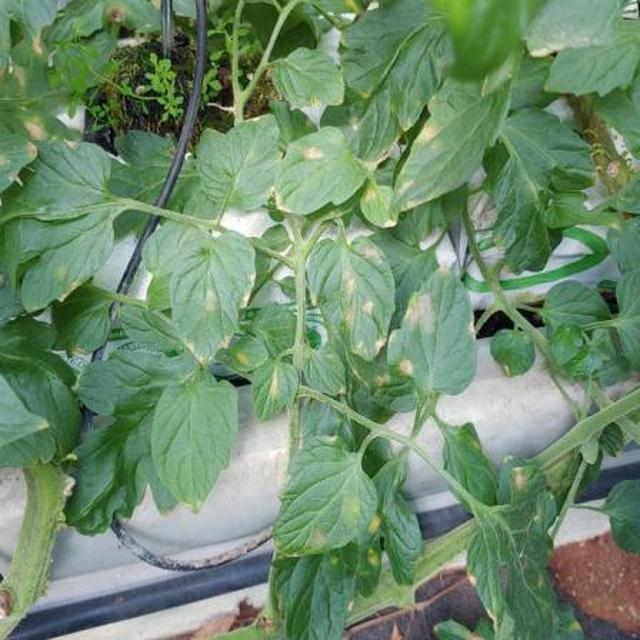Leaf Mold: (122, 133, 640, 640)
